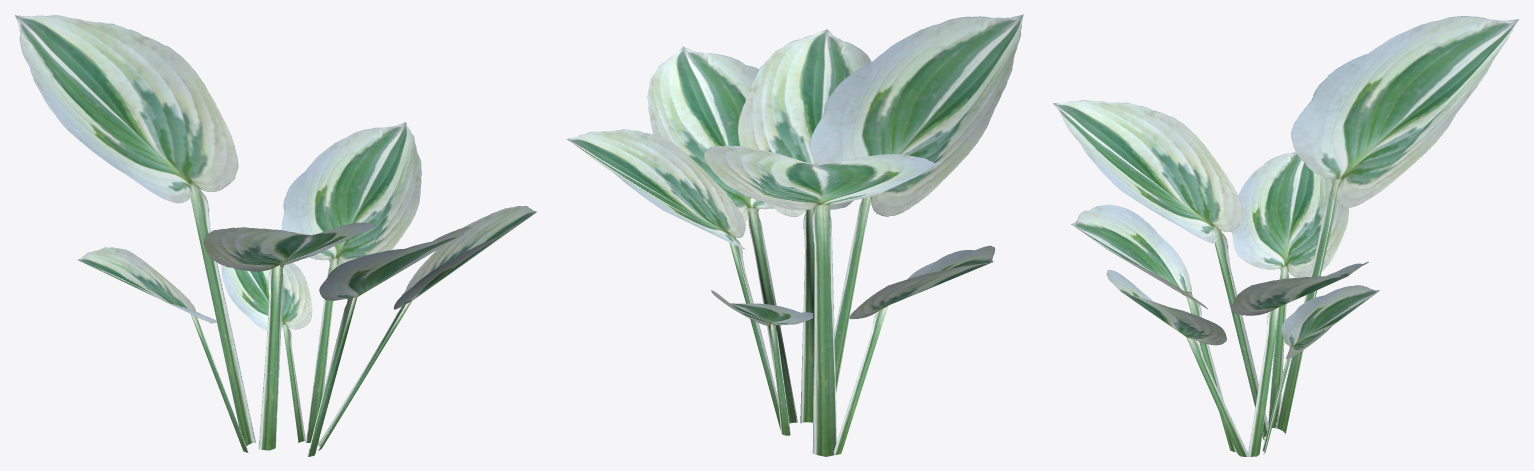
File: plant_small_wg_01R.fbx
3 views of the same model, side by side, from view 1: azimuth 30°, elevation 25°; view 2: azimuth 150°, elevation 25°; view 3: azimuth 270°, elevation 25° (orthographic). The views are drawn at different scales.
Visible parts, largest first — view 1: plant_small_wg_01R; view 2: plant_small_wg_01R; view 3: plant_small_wg_01R.
Part boxes in pixels (box(x1,y1,x2,y2)): plant_small_wg_01R: box(15, 15, 536, 456); plant_small_wg_01R: box(567, 14, 1023, 456); plant_small_wg_01R: box(1053, 16, 1518, 456).
Bounding box in the file's own units: 73.84 × 69.67 × 82.02.
